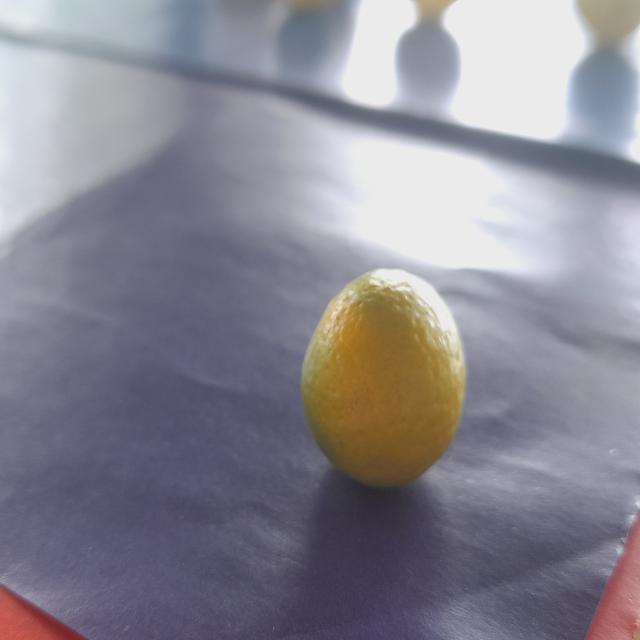greening: (301, 256, 504, 518)
